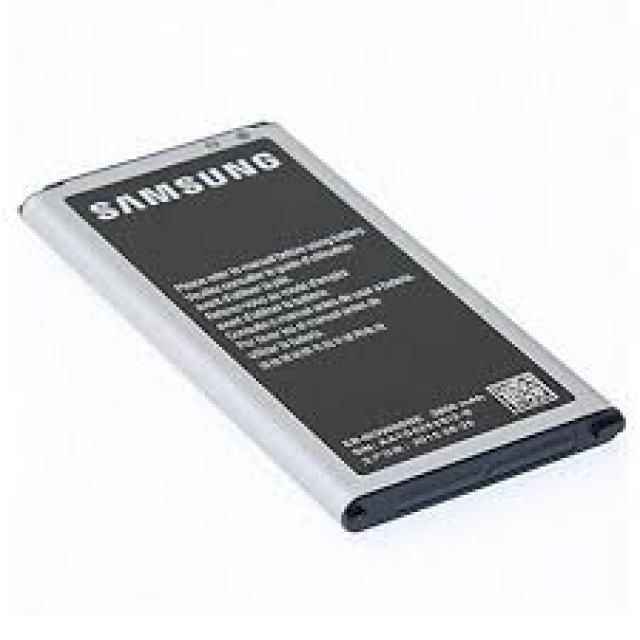non-organic waste: (19, 117, 631, 536)
